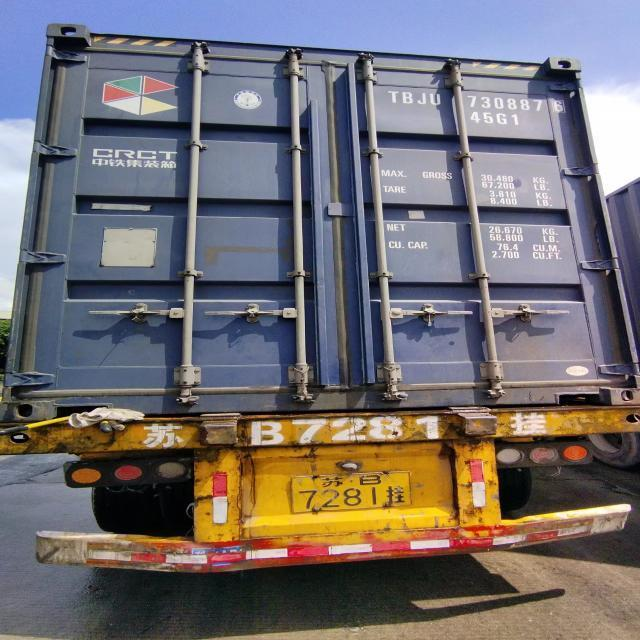ISO: (470, 108, 526, 130)
container_number: (401, 95, 574, 114)
